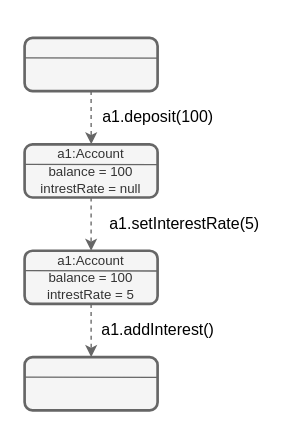
Some shapes in this 293 by 448 pixel diagram are drawn without their labels. Here are the shapes that lost their labels. From the top down, the centre of each, then its label:
the point at 90,64: a1:Account balance = null intrestRate = null
the point at 90,383: a1:Account balance = 105 intrestRate = 5
